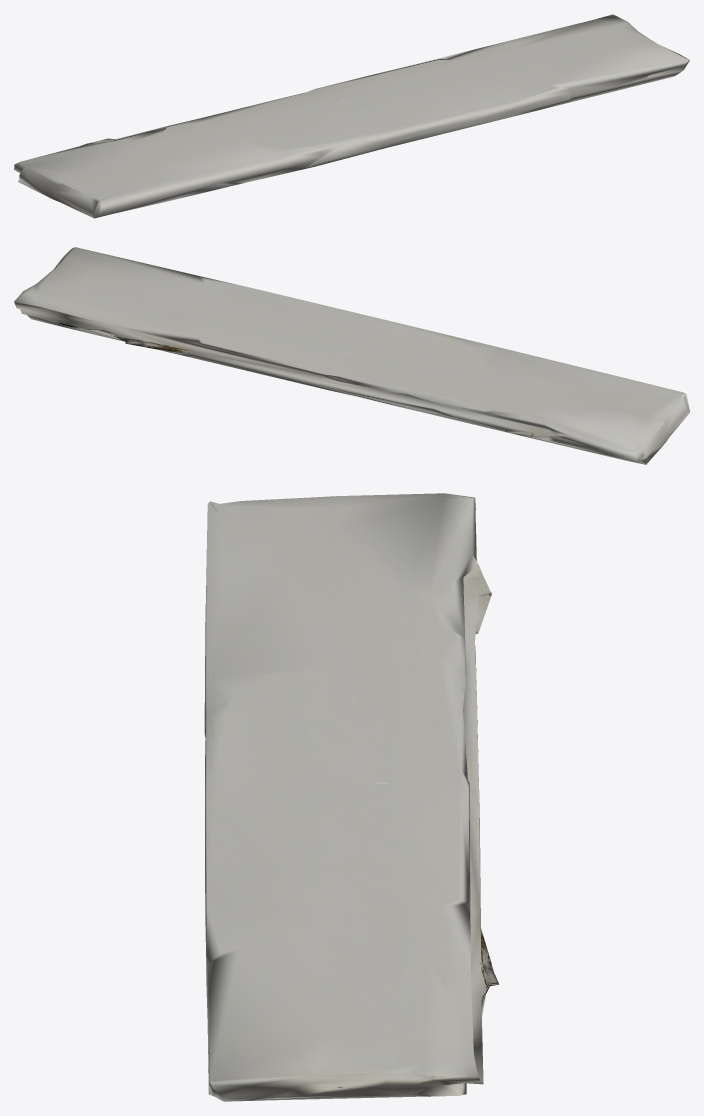
File: level1-light-panel.glb
3 renders of one model, top to bottom at view 1: azimuth 30°, elevation 25°; view 2: azimuth 150°, elevation 25°; view 3: azimuth 270°, elevation 25°, orthographic. The views are drawn at different scales.
Parts seen in each view (by area): view 1: tripo_node_b404ced9-2d16-4cff-9bd2-7f7943937ec3; view 2: tripo_node_b404ced9-2d16-4cff-9bd2-7f7943937ec3; view 3: tripo_node_b404ced9-2d16-4cff-9bd2-7f7943937ec3.
Part boxes in pixels (x1,y1,x2,y2): tripo_node_b404ced9-2d16-4cff-9bd2-7f7943937ec3: (14, 14, 689, 218); tripo_node_b404ced9-2d16-4cff-9bd2-7f7943937ec3: (14, 247, 689, 464); tripo_node_b404ced9-2d16-4cff-9bd2-7f7943937ec3: (204, 493, 499, 1101).
Bounding box in the file's own units: 2.4 × 0.0779 × 0.4997.
1 material, 1 textured.
